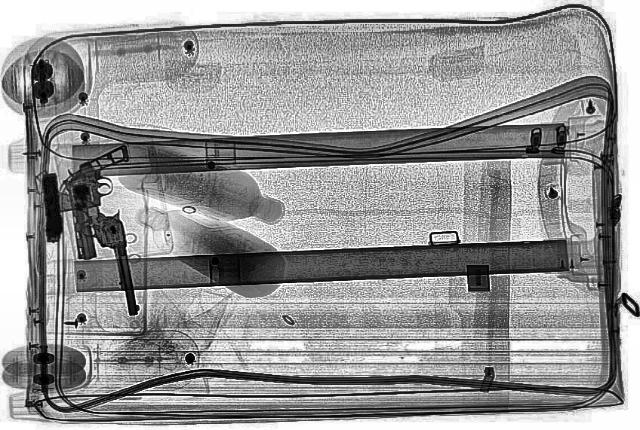Gun: (41, 137, 138, 263), (78, 205, 166, 329), (33, 176, 71, 246)
